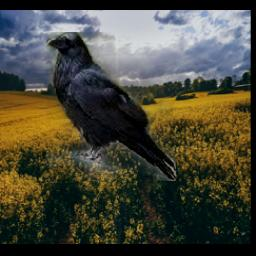Crow: (47, 33, 177, 182)
